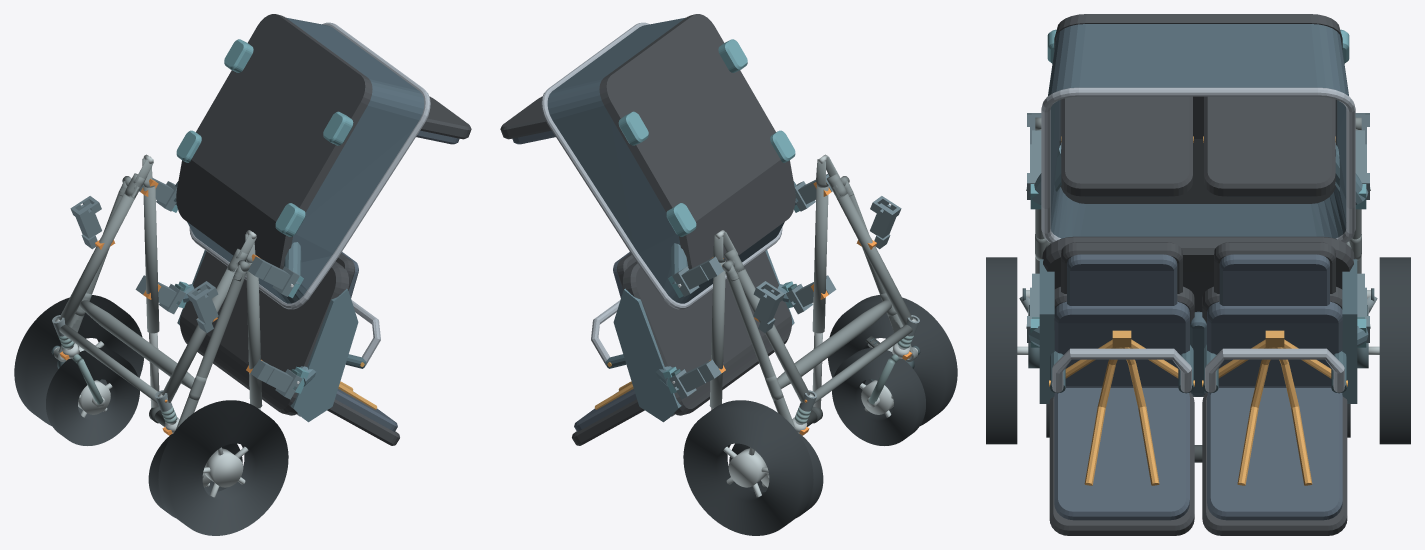
Rendered from D33_w650_state3_wheel_L.glb.
3 renders of one model, left to right at view 1: azimuth 30°, elevation 25°; view 2: azimuth 150°, elevation 25°; view 3: azimuth 270°, elevation 25°, orthographic. The views are drawn at different scales.
Visible parts, largest first — view 1: D33_Lower, D33_Upper, RL_tire.008, FR_tire.008, RR_tire.008, V46_rearbar.009, main_upper_1.009, main_lower_1.009, V46_rear_leg_-1.009, main_upper_-1.009, main_lower_-1.009, front_fixed_round_tube.008 (+12 smaller); view 2: D33_Lower, D33_Upper, RR_tire.008, FL_tire.008, RL_tire.008, V46_rearbar.009, main_upper_-1.009, main_lower_-1.009, V46_rear_leg_1.009, main_upper_1.009, main_lower_1.009, front_fixed_round_tube.008 (+12 smaller); view 3: D33_Upper, D33_Lower, RL_tire.008, RR_tire.008, D33_Lower_Mount_M, Universal_Cabin_Receiver_M_1, Universal_Cabin_Receiver_M_-1, D33_Upper_Mount_H, Universal_Cabin_Receiver_H_1, Universal_Cabin_Receiver_H_-1.
Part boxes in pixels (x1,y1,x2,y2): D33_Lower: (176,14,471,309); D33_Upper: (177,250,399,445); RL_tire.008: (158,400,288,535); FR_tire.008: (46,347,139,445); RR_tire.008: (14,295,143,425); V46_rearbar.009: (80,300,194,388); main_upper_1.009: (143,186,159,333); main_lower_1.009: (59,186,139,325); V46_rear_leg_-1.009: (176,271,245,429); main_upper_-1.009: (246,260,262,408); main_lower_-1.009: (162,267,237,402); front_fixed_round_tube.008: (59,324,157,403); D33_Lower: (500,14,795,309); D33_Upper: (572,250,794,445); RR_tire.008: (683,400,813,535); FL_tire.008: (832,347,925,445); RL_tire.008: (828,295,957,425); V46_rearbar.009: (777,300,891,388); main_upper_-1.009: (812,184,828,333); main_lower_-1.009: (832,186,912,325); V46_rear_leg_1.009: (726,271,795,429); main_upper_1.009: (709,260,725,408); main_lower_1.009: (734,267,809,402); front_fixed_round_tube.008: (814,324,912,403); D33_Upper: (1039,236,1357,535); D33_Lower: (1041,14,1355,243); RL_tire.008: (986,257,1017,444); RR_tire.008: (1379,257,1410,444); D33_Lower_Mount_M: (1026,143,1370,209); Universal_Cabin_Receiver_M_1: (1355,130,1369,199); Universal_Cabin_Receiver_M_-1: (1027,130,1041,199); D33_Upper_Mount_H: (1026,317,1370,347); Universal_Cabin_Receiver_H_1: (1357,273,1369,342); Universal_Cabin_Receiver_H_-1: (1027,273,1039,342).
Bounding box in the file's own units: 1.01 × 1.13 × 0.8171.
